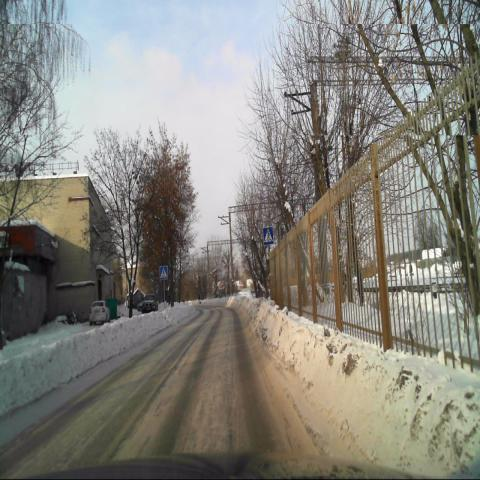5_19_1: (263, 226, 273, 244), (160, 266, 168, 280)
